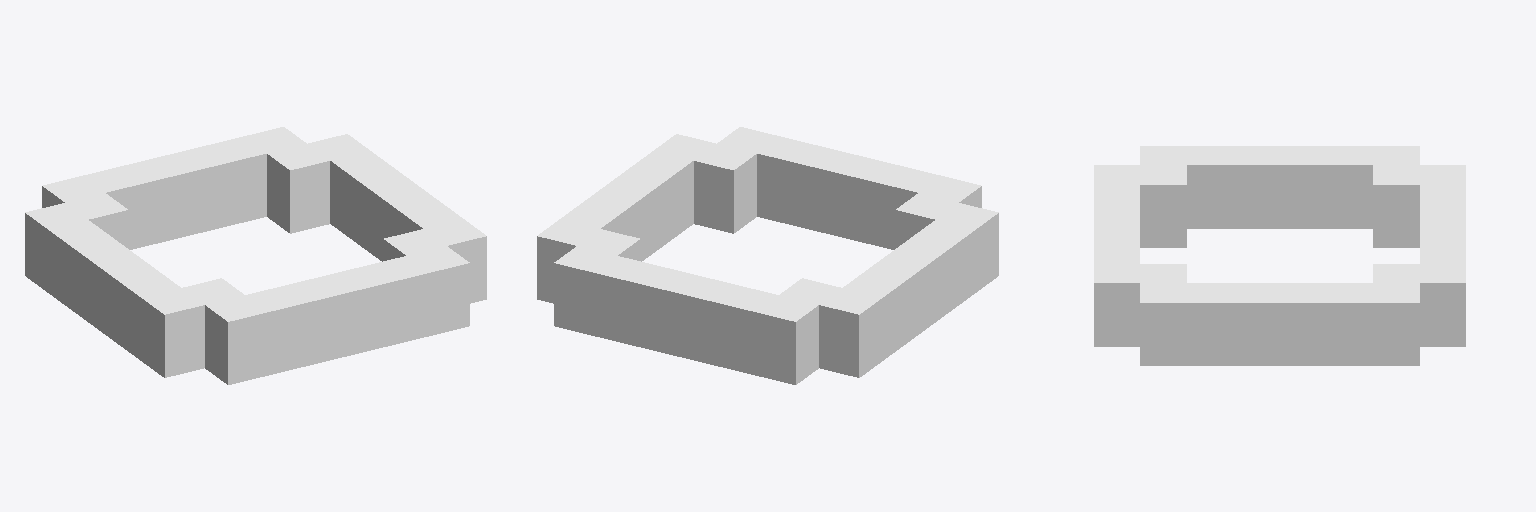
File: Halo.obj
The picture shows the model from 3 angles: view 1: azimuth 30°, elevation 25°; view 2: azimuth 150°, elevation 25°; view 3: azimuth 270°, elevation 25°; orthographic projection.
Parts seen in each view (by area): view 1: object 1; view 2: object 1; view 3: object 1.
Boxes of the visible parts, x1=… form: object 1: x1=25, y1=127, x2=486, y2=384; object 1: x1=537, y1=127, x2=998, y2=384; object 1: x1=1094, y1=146, x2=1465, y2=365.
Size of the model in its own units: 1.6 by 0.3 by 1.6.